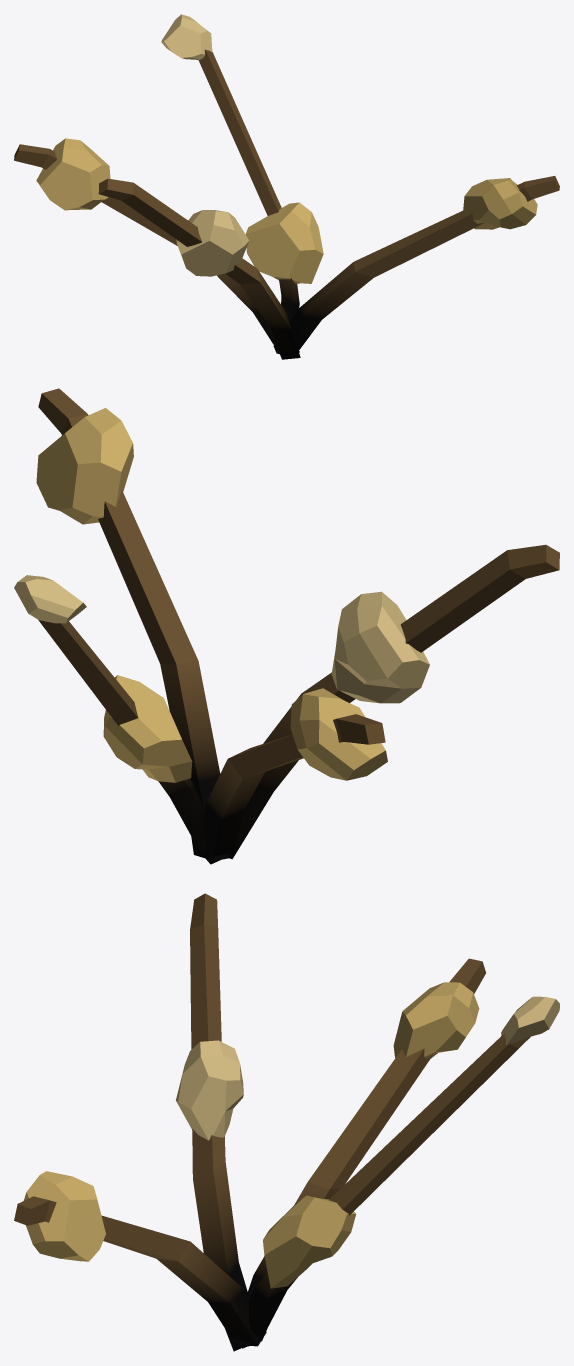
Rendered from EA03_Nature_Bush_04a.glb.
3 renders of one model, top to bottom at view 1: azimuth 30°, elevation 25°; view 2: azimuth 150°, elevation 25°; view 3: azimuth 270°, elevation 25°, orthographic. The views are drawn at different scales.
Parts seen in each view (by area): view 1: EA03_Nature_Bush_04a; view 2: EA03_Nature_Bush_04a; view 3: EA03_Nature_Bush_04a.
Boxes of the visible parts, x1,y1,x2,y2 form: EA03_Nature_Bush_04a: [14, 14, 559, 359]; EA03_Nature_Bush_04a: [14, 388, 559, 864]; EA03_Nature_Bush_04a: [14, 893, 559, 1351].
Bounding box in the file's own units: 2.48 × 1.54 × 2.17.
1 material, 1 textured.
